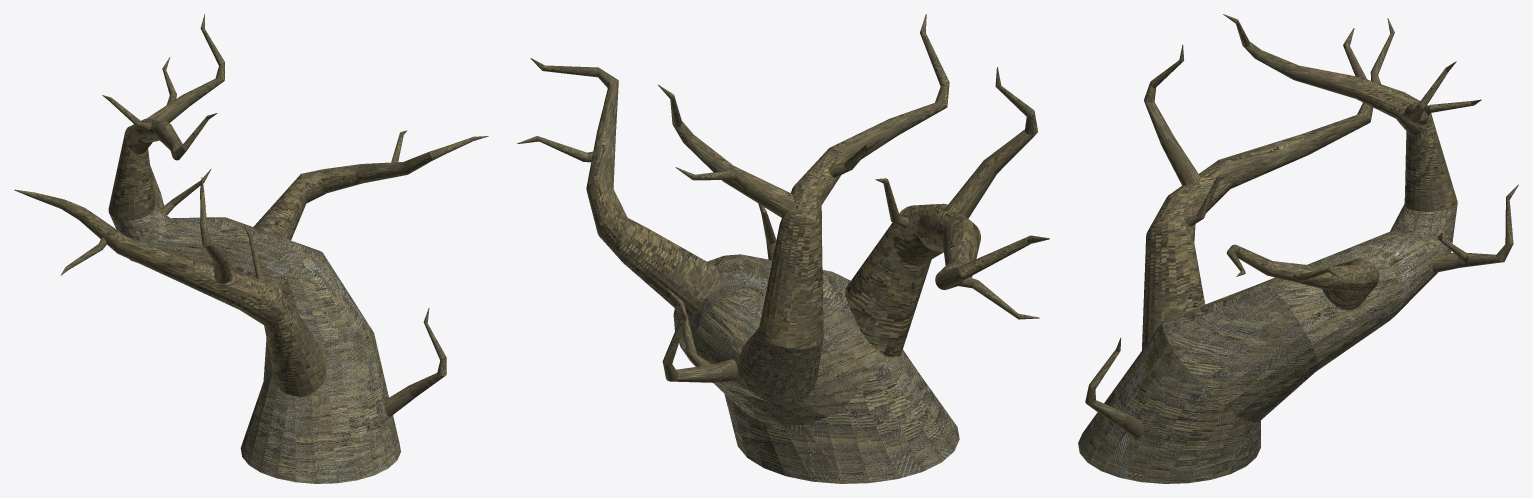
Rendered from Curvy Tree 1.fbx.
3 renders of one model, left to right at view 1: azimuth 30°, elevation 25°; view 2: azimuth 150°, elevation 25°; view 3: azimuth 270°, elevation 25°, orthographic. The views are drawn at different scales.
Parts seen in each view (by area): view 1: Main_Trunk, Tree_Branch_1_2, Tree_Branch_1_1, Tree_Branch_1, Tree_Branch_2_2, Tree_Branch_2_4, Tree_Branch_2_3, Tree_Branch_2; view 2: Main_Trunk, Tree_Branch_1_2, Tree_Branch_1_1, Tree_Branch_1, Tree_Branch_2_3, Tree_Branch_2_2, Tree_Branch_2, Tree_Branch_2_1, Tree_Branch_3, Tree_Branch_3_4, Tree_Branch_3_1, Tree_Branch_3_6 (+1 smaller); view 3: Main_Trunk, Tree_Branch_1_2, Tree_Branch_1, Tree_Branch_1_1, Tree_Branch_2, Tree_Branch_2_3, Tree_Branch_2_4, Tree_Branch_2_1, Tree_Branch_2_2, Tree_Branch_3, Tree_Branch_3_3.
Part boxes in pixels (box(x1,y1,x2,y2)): Main_Trunk: box(109, 204, 400, 483); Tree_Branch_1_2: box(14, 189, 325, 397); Tree_Branch_1_1: box(253, 136, 488, 240); Tree_Branch_1: box(108, 118, 164, 220); Tree_Branch_2_2: box(147, 14, 224, 122); Tree_Branch_2_4: box(384, 308, 446, 417); Tree_Branch_2_3: box(200, 177, 231, 283); Tree_Branch_2: box(154, 113, 217, 160); Main_Trunk: box(673, 254, 959, 483); Tree_Branch_1_2: box(845, 203, 1049, 357); Tree_Branch_1_1: box(530, 58, 732, 318); Tree_Branch_1: box(759, 147, 845, 348); Tree_Branch_2_3: box(943, 67, 1037, 218); Tree_Branch_2_2: box(658, 84, 794, 217); Tree_Branch_2: box(832, 14, 949, 161); Tree_Branch_2_1: box(672, 359, 737, 382); Tree_Branch_3: box(662, 308, 686, 381); Tree_Branch_3_4: box(959, 277, 1039, 319); Tree_Branch_3_1: box(666, 288, 711, 366); Tree_Branch_3_6: box(675, 167, 750, 189); Main_Trunk: box(1078, 204, 1457, 483); Tree_Branch_1_2: box(1142, 28, 1373, 349); Tree_Branch_1: box(1355, 77, 1457, 211); Tree_Branch_1_1: box(1226, 244, 1379, 310); Tree_Branch_2: box(1223, 14, 1359, 98); Tree_Branch_2_3: box(1144, 44, 1200, 185); Tree_Branch_2_4: box(1085, 338, 1143, 438); Tree_Branch_2_1: box(1433, 253, 1503, 272); Tree_Branch_2_2: box(1404, 61, 1456, 125); Tree_Branch_3: box(1496, 184, 1518, 261); Tree_Branch_3_3: box(1185, 171, 1234, 226).
Size of the model in its own units: 3.04 by 2.35 by 2.41.
